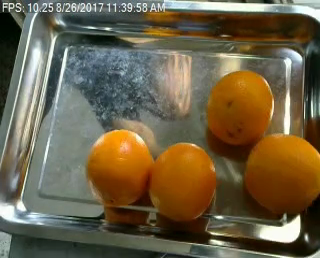Orange: (244, 132, 320, 214), (150, 140, 218, 221), (204, 71, 273, 146), (86, 129, 152, 207)
